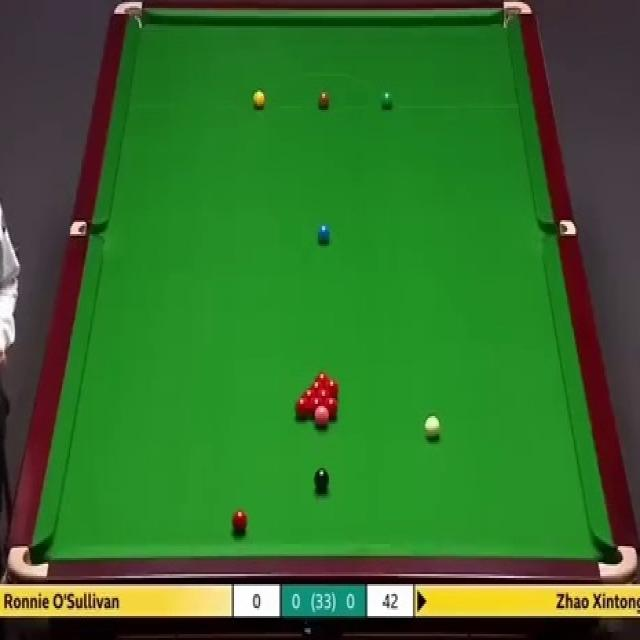black-ball: (314, 467, 330, 491)
blue-ball: (316, 223, 331, 248)
brown-ball: (318, 90, 331, 110)
green-ball: (381, 90, 395, 111)
pink-ball: (314, 406, 329, 428)
red-ball: (231, 508, 249, 536), (294, 396, 310, 418), (324, 396, 338, 421), (324, 377, 340, 398), (309, 396, 323, 416), (310, 379, 324, 394), (300, 386, 316, 399), (317, 386, 330, 401), (315, 370, 328, 385)
white-ball: (424, 414, 440, 440)
yellow-ball: (251, 89, 266, 110)
